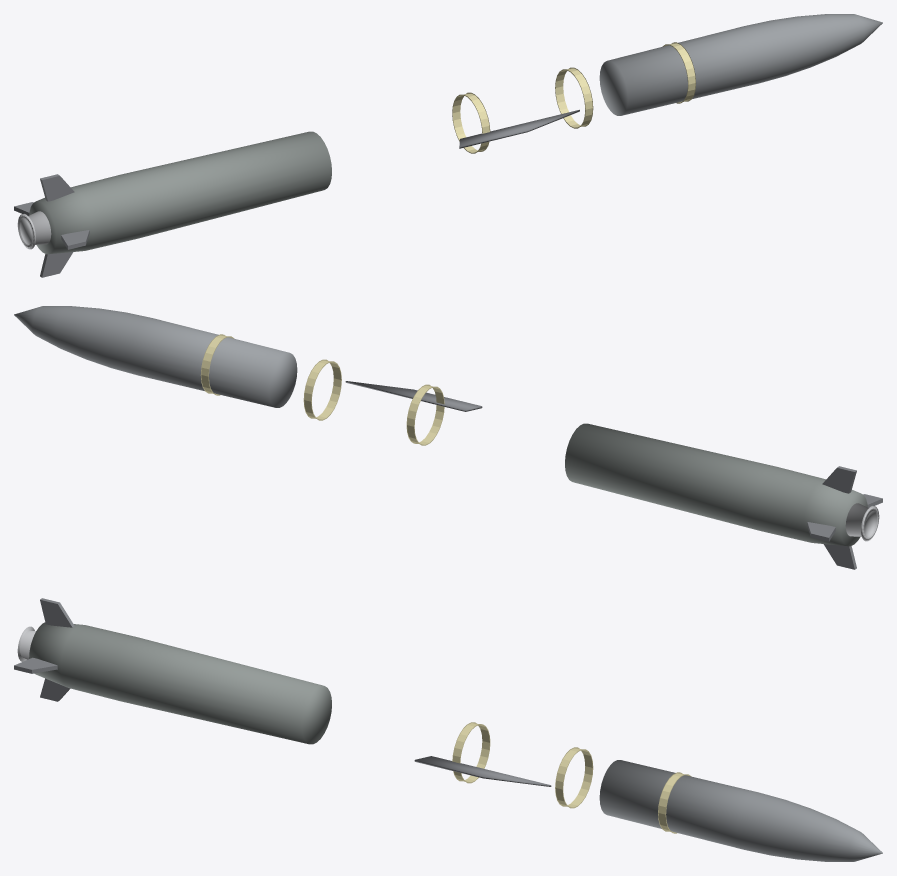
File: RU_ASW_Veter_LOD1.fbx
3 renders of one model, top to bottom at view 1: azimuth 30°, elevation 25°; view 2: azimuth 150°, elevation 25°; view 3: azimuth 330°, elevation 25°, orthographic.
Visible parts, largest first — view 1: WPN_RU_ASW_Veter_LOD1_Tail, WPN_RU_ASW_Veter_LOD1_Body, WPN_RU_ASW_Veter_LOD1_Marking, WPN_RU_ASW_Veter_LOD1_Fins, WPN_RU_ASW_Veter_LOD1_Detail, WPN_RU_ASW_Veter_LOD1_Propulsor; view 2: WPN_RU_ASW_Veter_LOD1_Tail, WPN_RU_ASW_Veter_LOD1_Body, WPN_RU_ASW_Veter_LOD1_Marking, WPN_RU_ASW_Veter_LOD1_Fins, WPN_RU_ASW_Veter_LOD1_Propulsor, WPN_RU_ASW_Veter_LOD1_Detail; view 3: WPN_RU_ASW_Veter_LOD1_Tail, WPN_RU_ASW_Veter_LOD1_Body, WPN_RU_ASW_Veter_LOD1_Marking, WPN_RU_ASW_Veter_LOD1_Fins, WPN_RU_ASW_Veter_LOD1_Detail.
Part boxes in pixels (x1,y1,x2,y2): WPN_RU_ASW_Veter_LOD1_Tail: (29,131,331,254); WPN_RU_ASW_Veter_LOD1_Body: (599,14,882,115); WPN_RU_ASW_Veter_LOD1_Marking: (452,42,696,153); WPN_RU_ASW_Veter_LOD1_Fins: (14,174,89,277); WPN_RU_ASW_Veter_LOD1_Detail: (459,109,579,148); WPN_RU_ASW_Veter_LOD1_Propulsor: (17,211,51,249); WPN_RU_ASW_Veter_LOD1_Tail: (565,423,867,546); WPN_RU_ASW_Veter_LOD1_Body: (14,306,297,407); WPN_RU_ASW_Veter_LOD1_Marking: (200,334,444,445); WPN_RU_ASW_Veter_LOD1_Fins: (807,466,882,569); WPN_RU_ASW_Veter_LOD1_Propulsor: (845,503,879,541); WPN_RU_ASW_Veter_LOD1_Detail: (345,381,482,411); WPN_RU_ASW_Veter_LOD1_Tail: (29,622,331,744); WPN_RU_ASW_Veter_LOD1_Body: (599,760,882,861); WPN_RU_ASW_Veter_LOD1_Marking: (452,722,691,833); WPN_RU_ASW_Veter_LOD1_Fins: (14,598,74,701); WPN_RU_ASW_Veter_LOD1_Detail: (414,756,551,786).
Bounding box in the file's own units: 8.9 × 0.9695 × 0.9695.
